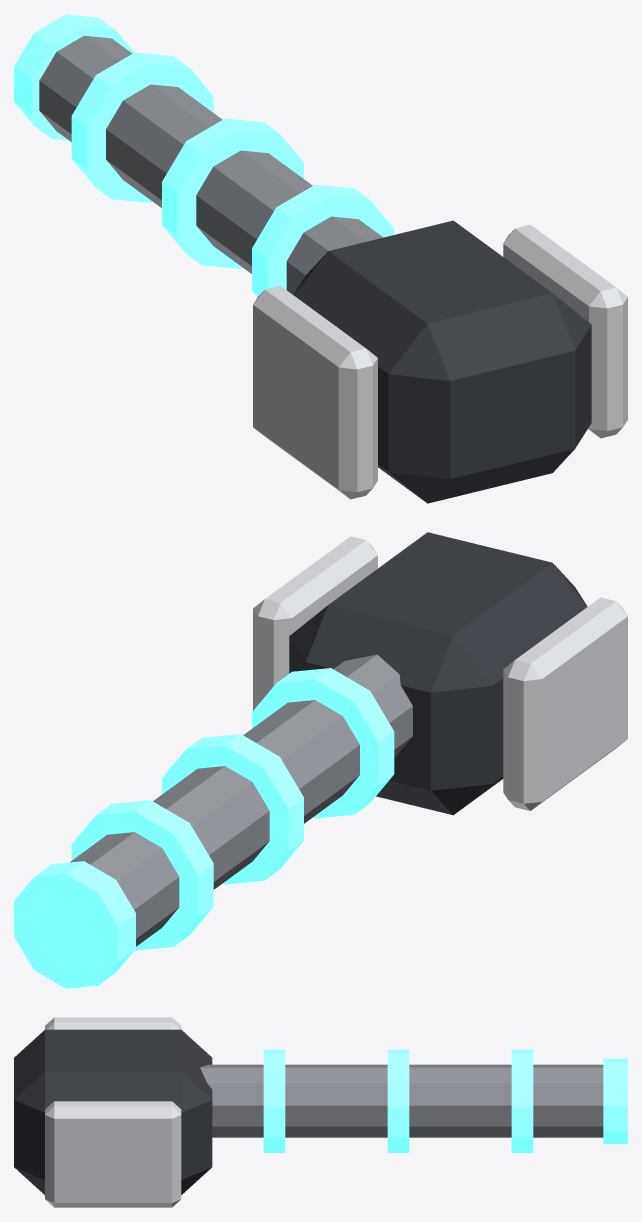
The model's file is laser.glb.
3 views of the same model, one above another, from view 1: azimuth 30°, elevation 25°; view 2: azimuth 150°, elevation 25°; view 3: azimuth 270°, elevation 25° (orthographic). The views are drawn at different scales.
Visible parts, largest first — view 1: laser; view 2: laser; view 3: laser.
Part boxes in pixels (x1,y1,x2,y2): laser: (14, 14, 627, 503); laser: (14, 532, 627, 988); laser: (14, 1017, 627, 1207).
Bounding box in the file's own units: 0.37 × 0.22 × 0.99.
